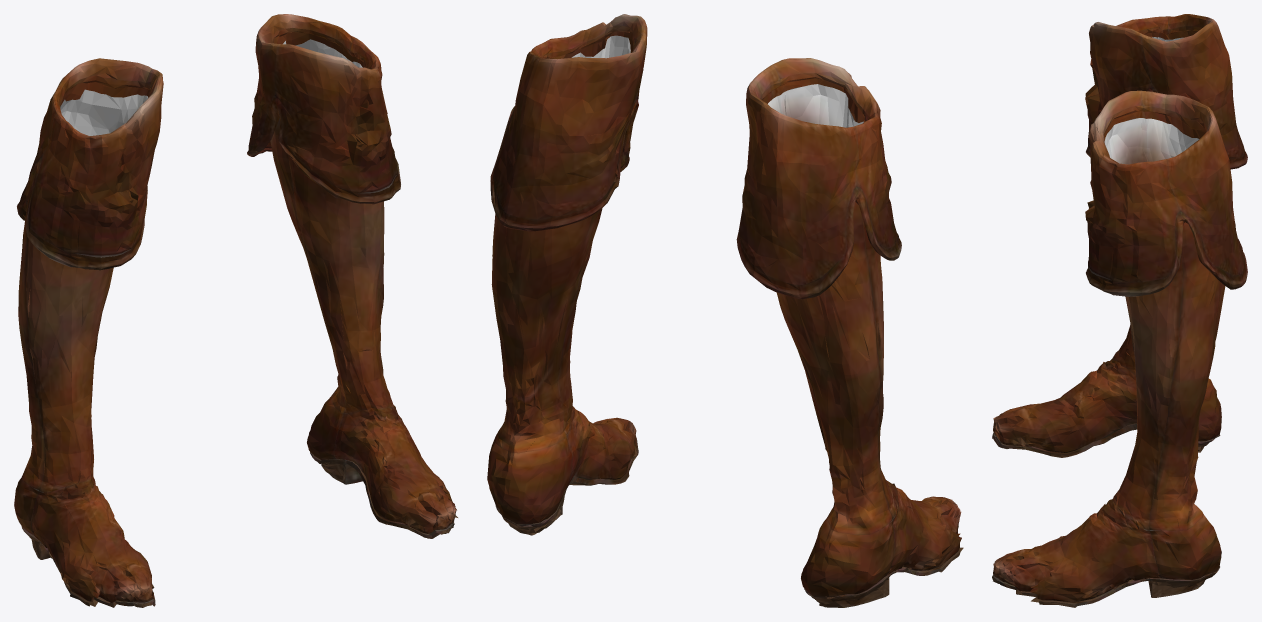
File: mhw_grinsegold_female_pirate_boots.glb
3 renders of one model, left to right at view 1: azimuth 30°, elevation 25°; view 2: azimuth 150°, elevation 25°; view 3: azimuth 270°, elevation 25°, orthographic. The views are drawn at different scales.
Visible parts, largest first — view 1: mhw_grinsegold_female_pirate_boots; view 2: mhw_grinsegold_female_pirate_boots; view 3: mhw_grinsegold_female_pirate_boots.
Part boxes in pixels (x1,y1,x2,y2): mhw_grinsegold_female_pirate_boots: [14, 14, 457, 607]; mhw_grinsegold_female_pirate_boots: [487, 14, 963, 607]; mhw_grinsegold_female_pirate_boots: [992, 14, 1247, 607].
Bounding box in the file's own units: 0.5246 × 0.6295 × 0.3174.
Materials: 1 (1 with a texture image).
